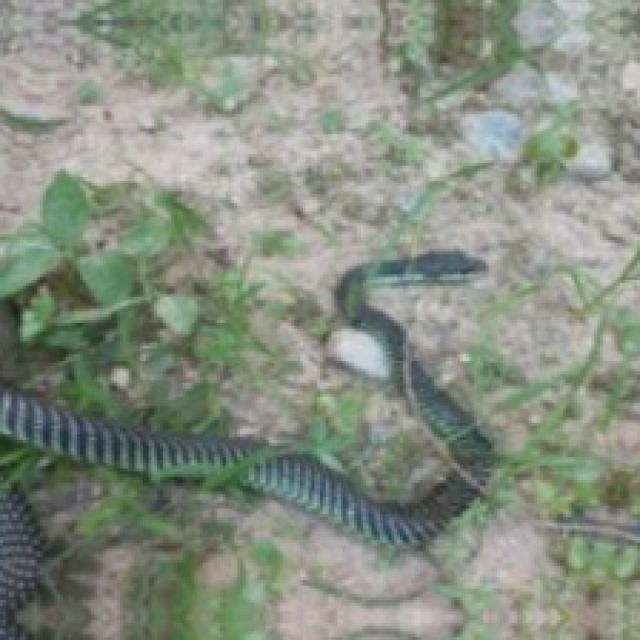paradise tree snake: (0, 300, 489, 546), (280, 523, 451, 637)
